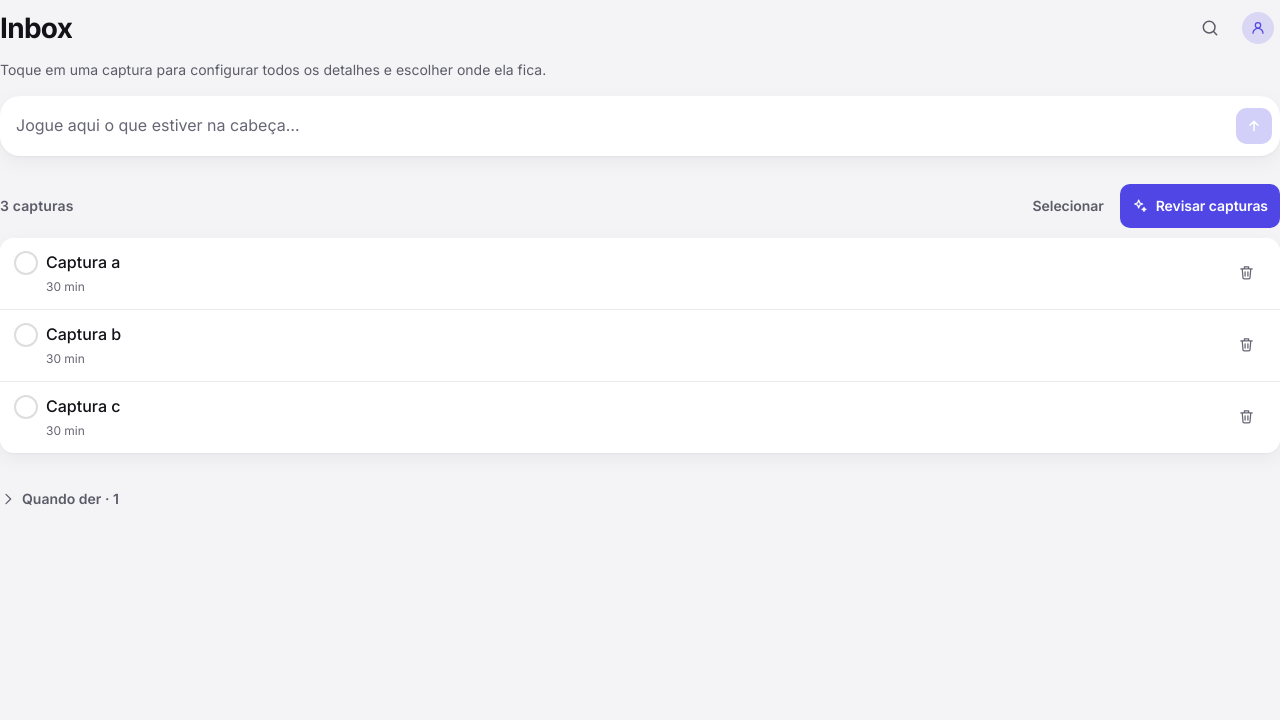
exclui uma captura diretamente e desfaz com IDs/metadados preservados
What coordinates should you click on to do the following:
click the button named "Excluir captura: Captura a"
I would click on:
 (1246, 272)
Its box is [1224,250,1268,294].
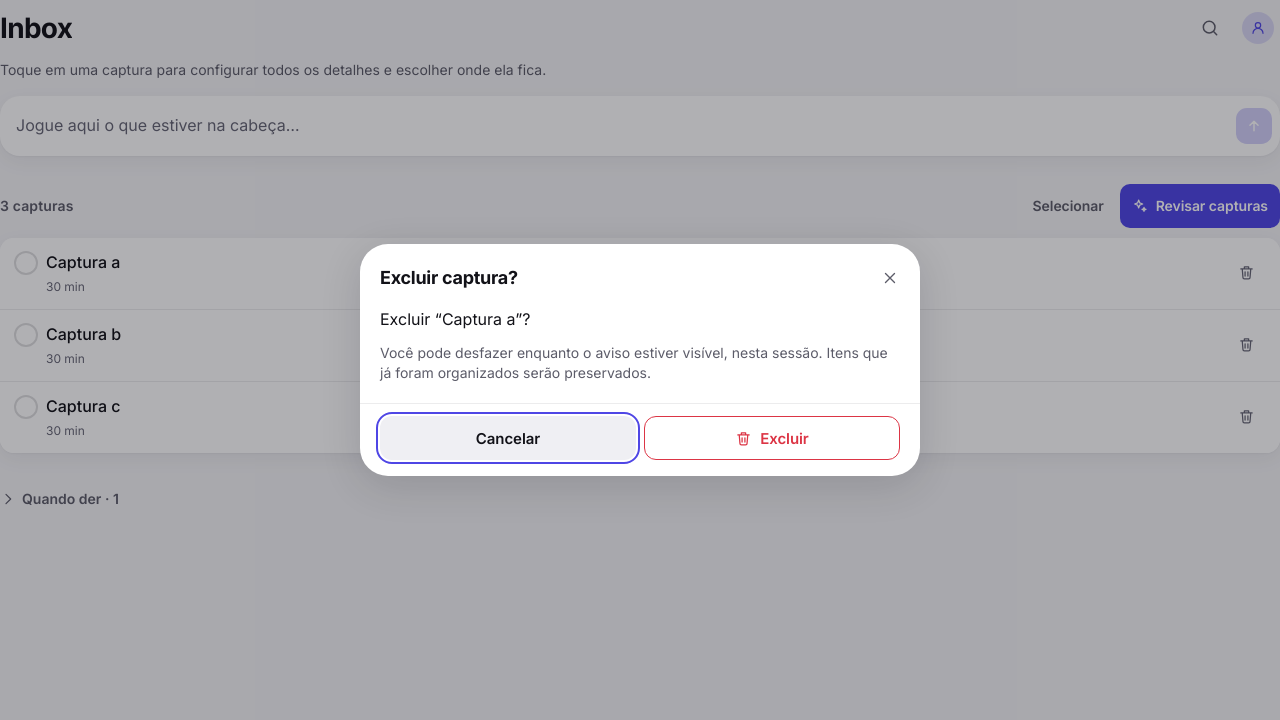
What coordinates should you click on to do the following:
click the button "Excluir"
I would click on:
 (772, 438)
Its box is [644,416,900,460].
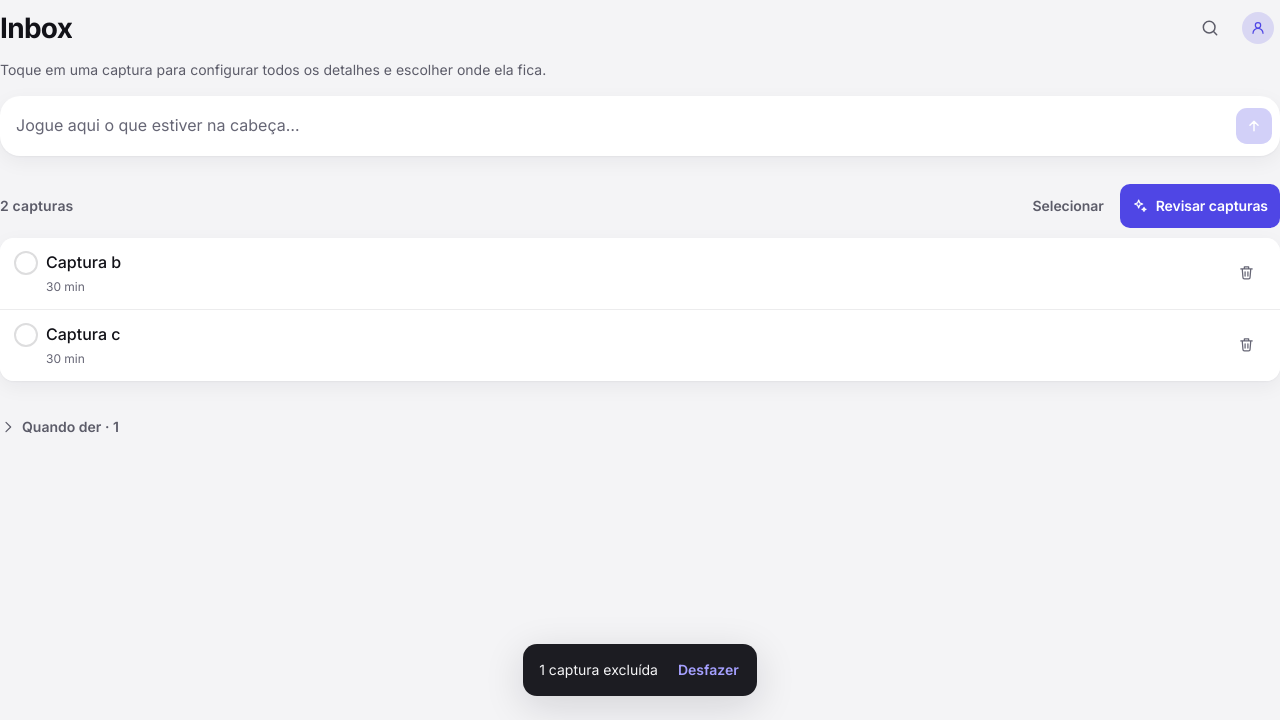
Result: the text "1 captura excluída" is shown at [539,660,658,680]
What coordinates should you click on to do the following:
click the button "Desfazer"
I would click on:
 (708, 670)
Its box is [670,654,747,686].
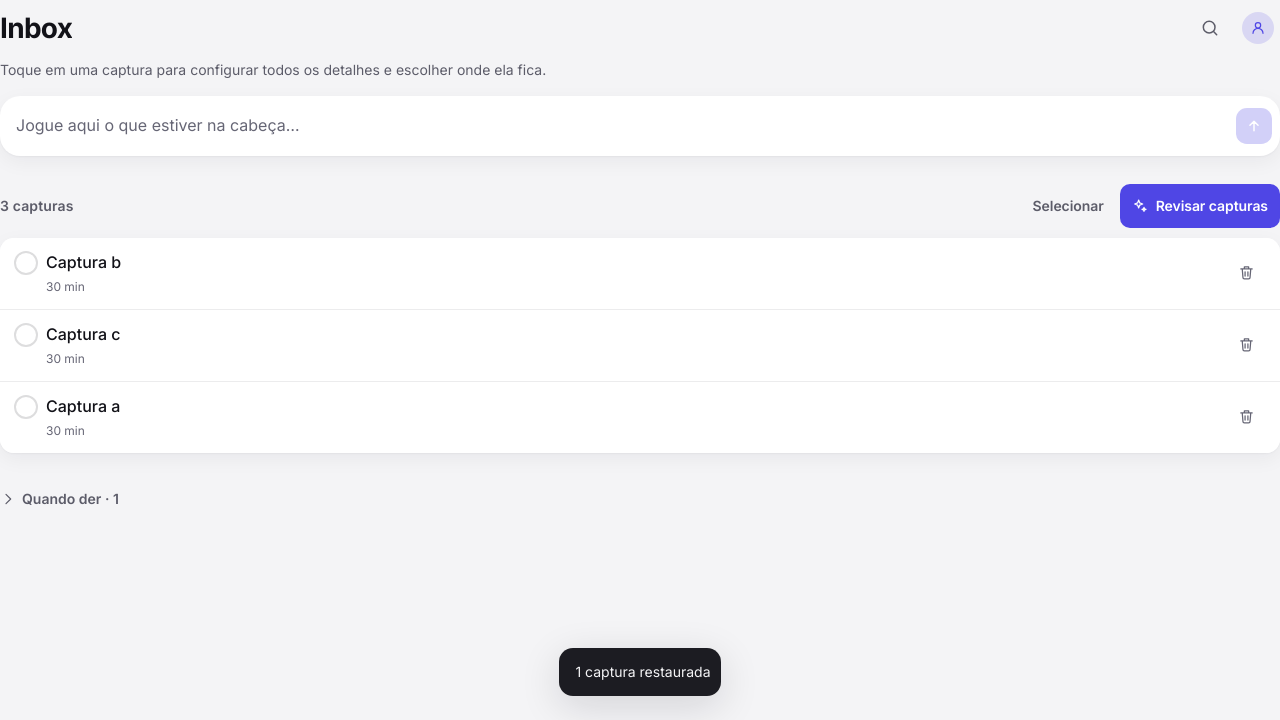
Result: the number of buttons with class "inbox-trash" is 3 at [1224,250,1268,294]; [1224,322,1268,366]; [1224,394,1268,438]
